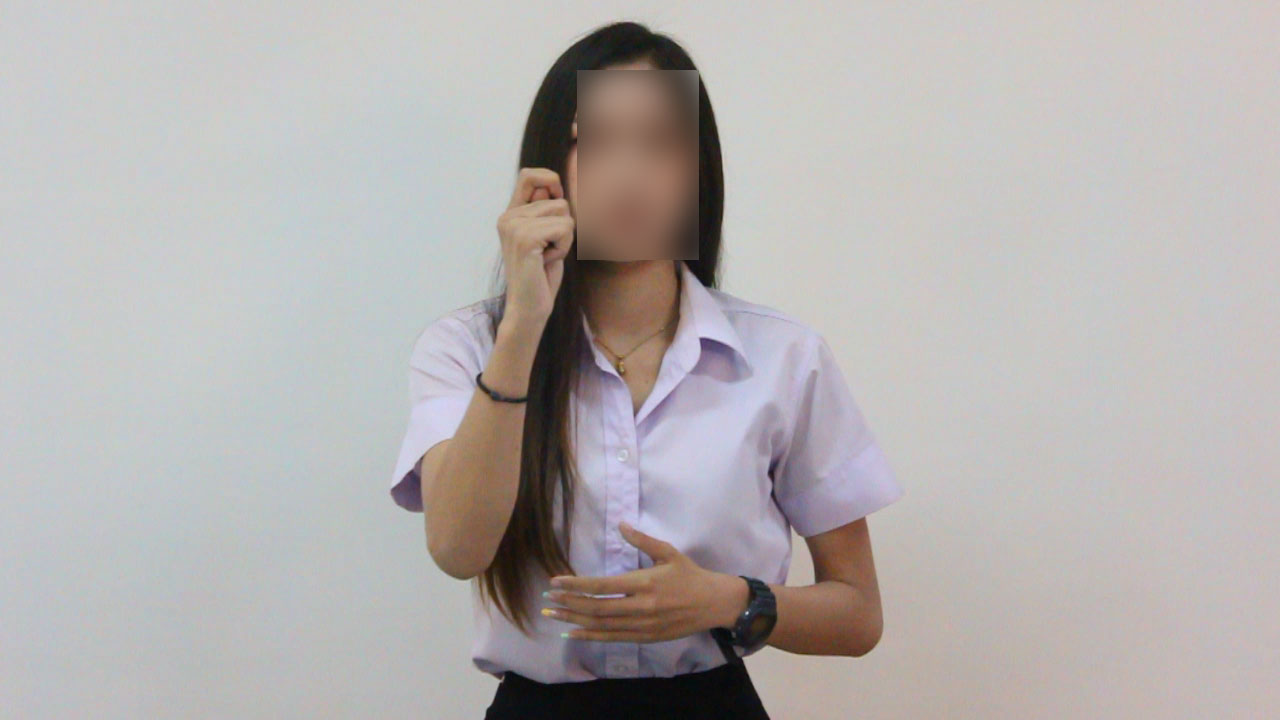or: (490, 156, 582, 332)
